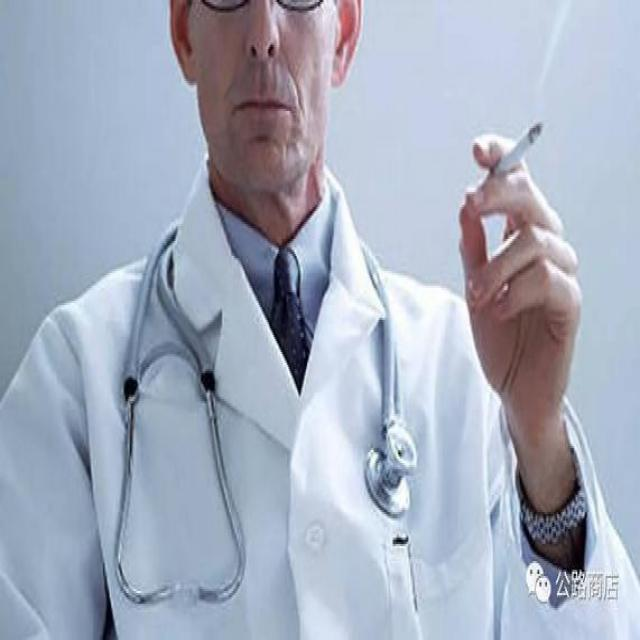Сигарета: (475, 120, 543, 184)
